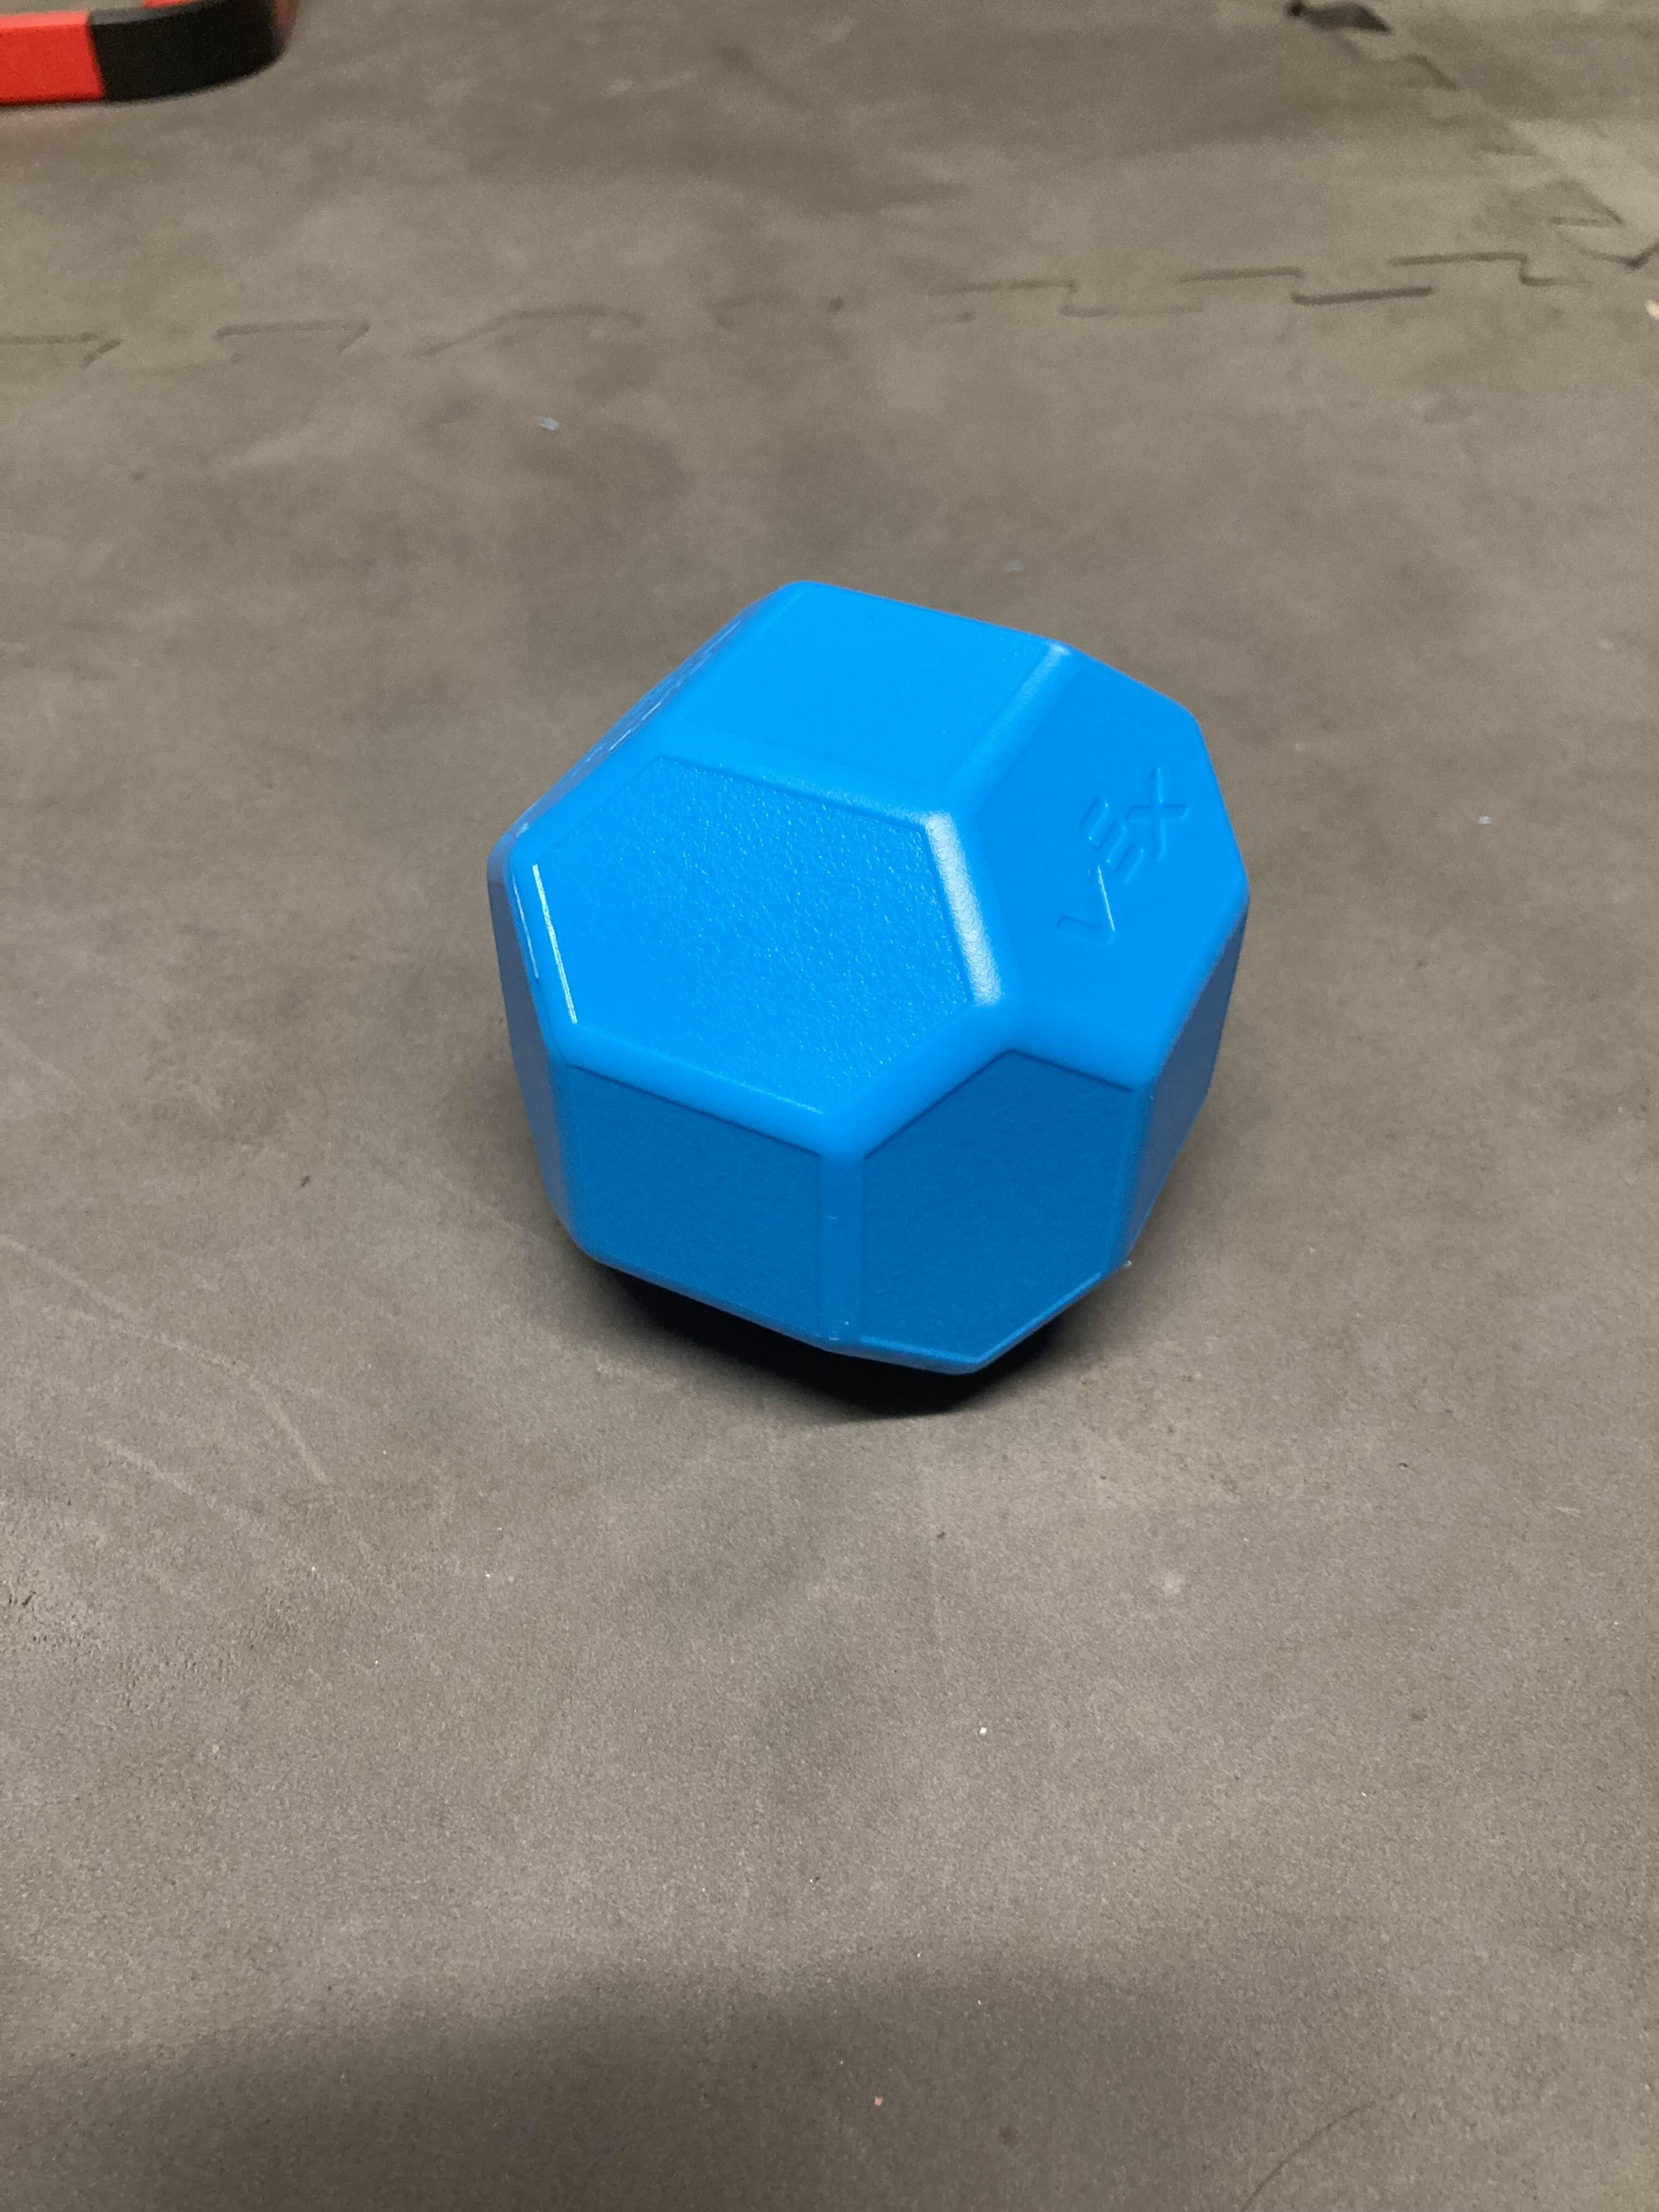Vex-Pieces-BLUE: (483, 580, 1251, 1386)
